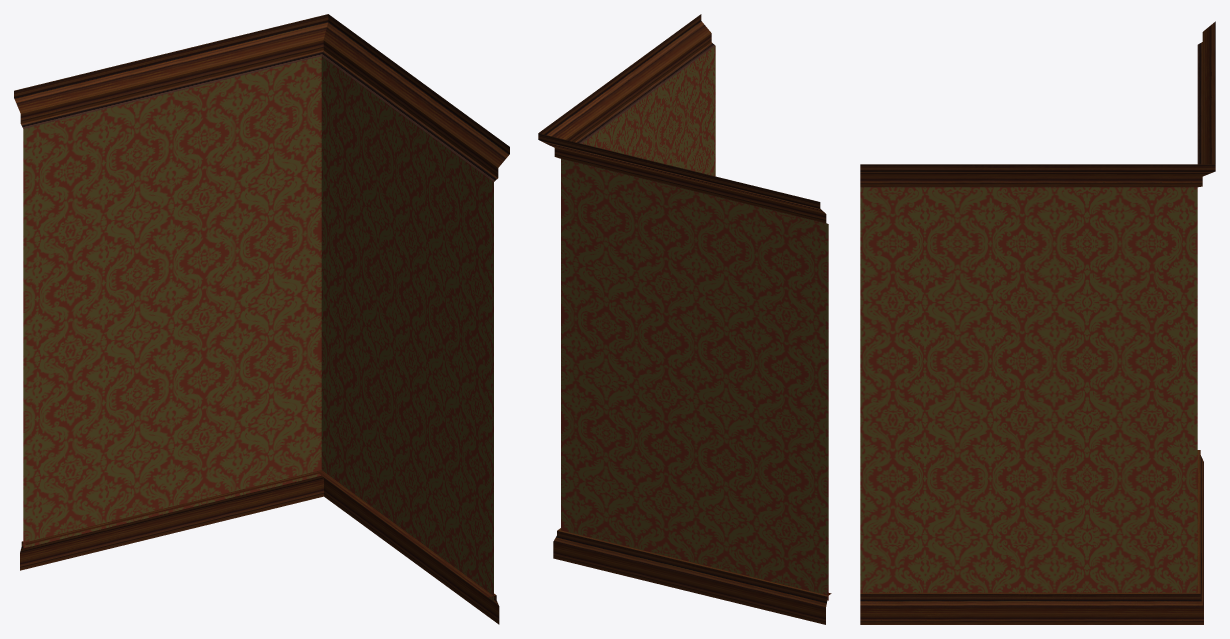
Rendered from WallPlain_Corner.fbx.
3 renders of one model, left to right at view 1: azimuth 30°, elevation 25°; view 2: azimuth 150°, elevation 25°; view 3: azimuth 270°, elevation 25°, orthographic. The views are drawn at different scales.
Visible parts, largest first — view 1: Wall_DoorV2.006; view 2: Wall_DoorV2.006; view 3: Wall_DoorV2.006.
Boxes of the visible parts, box(x1,y1,x2,y2) form: Wall_DoorV2.006: box(14, 14, 509, 624); Wall_DoorV2.006: box(538, 14, 831, 624); Wall_DoorV2.006: box(860, 21, 1215, 624).
Size of the model in its own units: 195 by 281 by 195.
